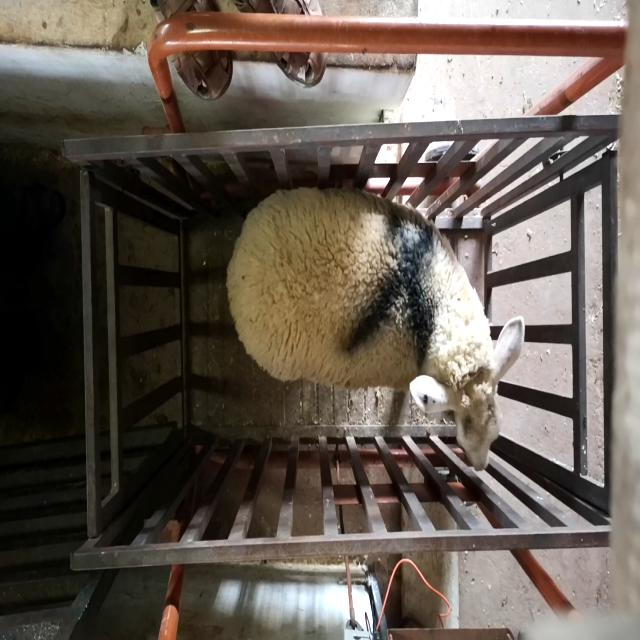sheep: (226, 187, 525, 472)
